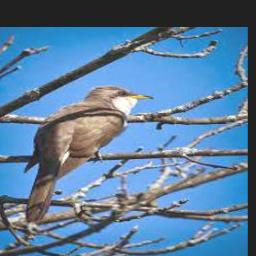Cuckoo: (22, 86, 151, 224)
